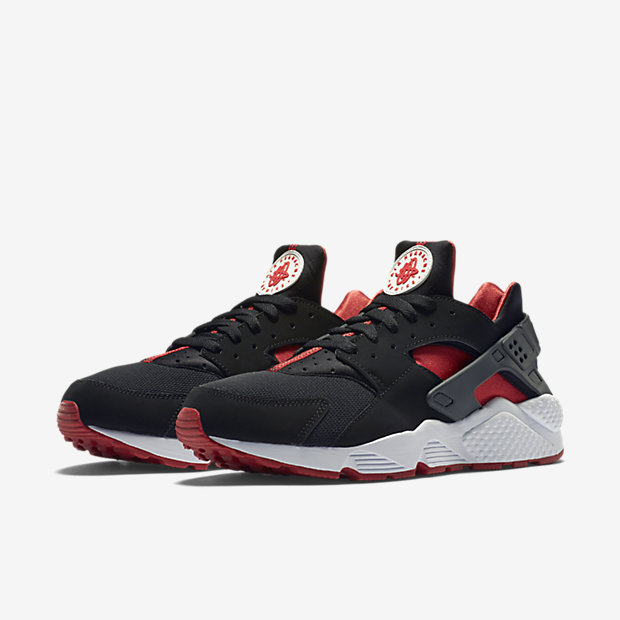Air Huarache Bred: (172, 227, 580, 484), (41, 229, 386, 485)
